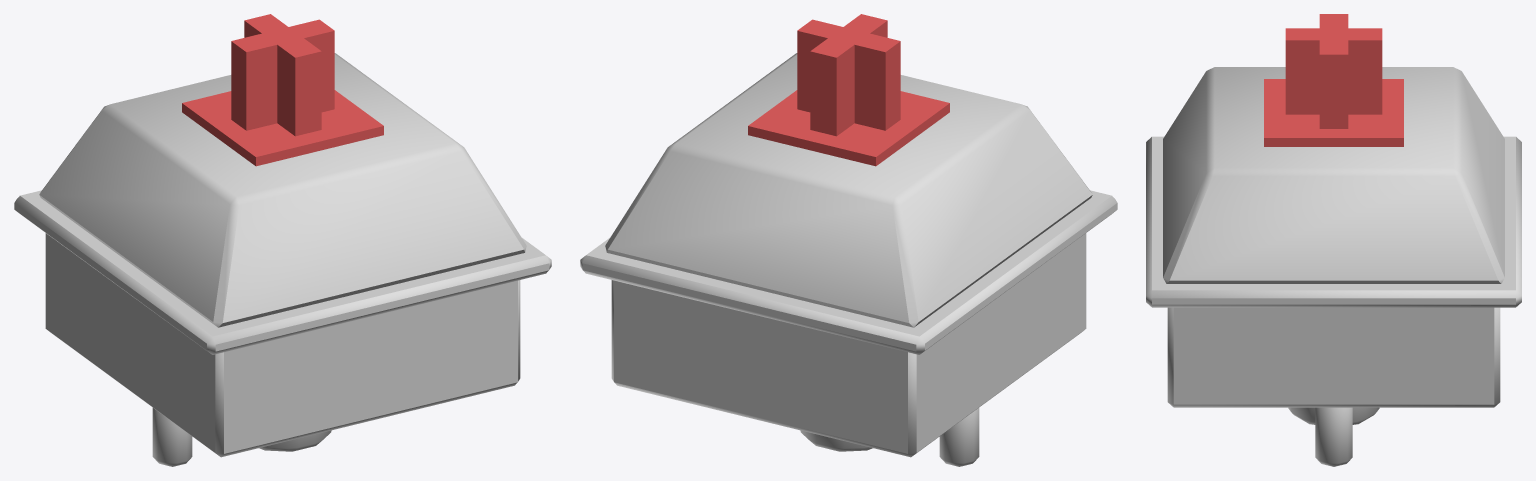
The model's file is switch.glb.
3 views of the same model, side by side, from view 1: azimuth 30°, elevation 25°; view 2: azimuth 150°, elevation 25°; view 3: azimuth 270°, elevation 25° (orthographic). The views are drawn at different scales.
Visible parts, largest first — view 1: housing, stem; view 2: housing, stem; view 3: housing, stem.
Boxes of the visible parts, box(x1,y1,x2,y2) form: housing: box(14, 53, 551, 466); stem: box(182, 14, 383, 166); housing: box(580, 53, 1117, 466); stem: box(748, 14, 949, 166); housing: box(1146, 67, 1521, 466); stem: box(1264, 14, 1403, 146).
Bounding box in the file's own units: 1.56 × 1.72 × 1.56.
